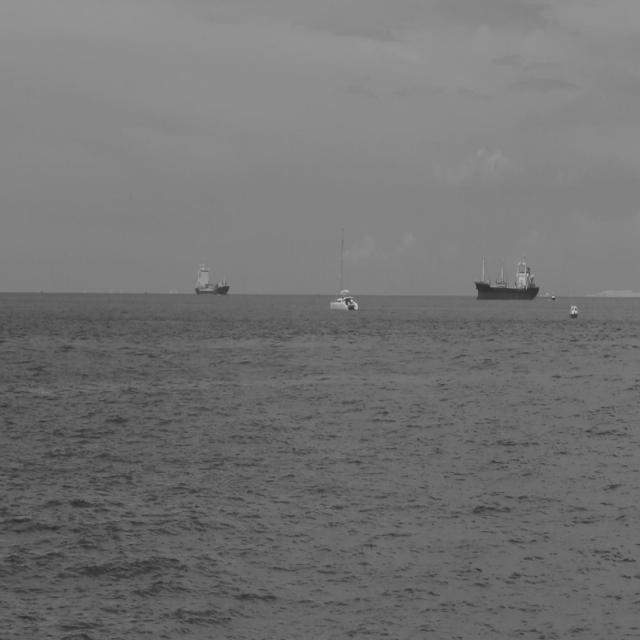boat: (329, 223, 360, 314)
ship: (472, 250, 541, 302), (193, 259, 231, 298), (568, 302, 580, 320), (550, 291, 556, 301)
